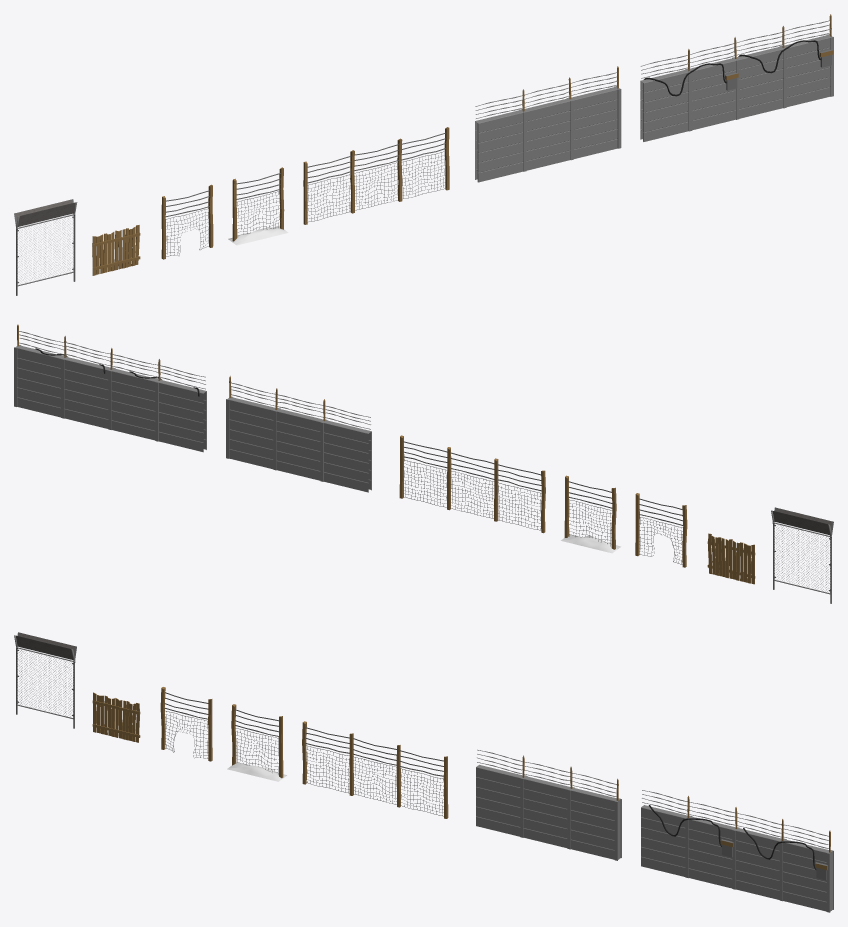
The model's file is fences_tiers.fbx.
3 views of the same model, one above another, from view 1: azimuth 30°, elevation 25°; view 2: azimuth 150°, elevation 25°; view 3: azimuth 330°, elevation 25° (orthographic).
Visible parts, largest first — view 1: energy1, energy2, cw3, cw1, cw2, metal_fence, wood_fence, f2, fence_full, fence_with_hole, f3, f1 (+2 smaller); view 2: energy1, energy2, cw3, cw2, cw1, metal_fence, wood_fence, f2, fence_full, fence_with_hole, f1, f3 (+3 smaller); view 3: energy2, energy1, cw1, cw3, cw2, metal_fence, wood_fence, f2, fence_full, fence_with_hole, f3, f1 (+3 smaller).
Boxes of the visible parts, bbox=[...] form: energy1: bbox=[640, 57, 739, 141]; energy2: bbox=[736, 34, 833, 118]; cw3: bbox=[475, 109, 526, 182]; cw1: bbox=[571, 86, 621, 158]; cw2: bbox=[524, 97, 573, 170]; metal_fence: bbox=[14, 199, 77, 295]; wood_fence: bbox=[92, 225, 140, 275]; f2: bbox=[303, 150, 354, 224]; fence_full: bbox=[232, 167, 284, 241]; fence_with_hole: bbox=[161, 184, 213, 259]; f3: bbox=[401, 127, 449, 198]; f1: bbox=[354, 138, 402, 210]; energy1: bbox=[108, 367, 206, 452]; energy2: bbox=[14, 344, 110, 428]; cw3: bbox=[320, 419, 371, 492]; cw2: bbox=[273, 407, 323, 480]; cw1: bbox=[226, 396, 275, 469]; metal_fence: bbox=[771, 507, 833, 603]; wood_fence: bbox=[707, 533, 755, 584]; f2: bbox=[494, 458, 545, 533]; fence_full: bbox=[564, 475, 616, 549]; fence_with_hole: bbox=[635, 493, 687, 567]; f1: bbox=[447, 447, 494, 518]; f3: bbox=[399, 435, 447, 507]; energy2: bbox=[735, 828, 833, 912]; energy1: bbox=[641, 805, 739, 889]; cw1: bbox=[570, 787, 621, 860]; cw3: bbox=[476, 764, 527, 837]; cw2: bbox=[523, 776, 574, 849]; metal_fence: bbox=[14, 632, 76, 728]; wood_fence: bbox=[92, 692, 140, 742]; f2: bbox=[302, 721, 353, 795]; fence_full: bbox=[231, 704, 283, 778]; fence_with_hole: bbox=[160, 687, 212, 761]; f3: bbox=[399, 750, 448, 818]; f1: bbox=[353, 738, 400, 807].
Size of the model in its own units: 3458 by 332 by 66.
Materials: 7 (1 with a texture image).
